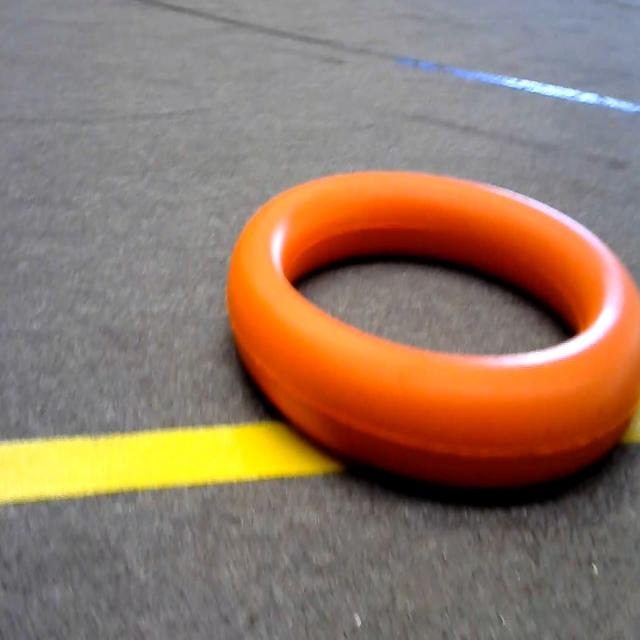note: (212, 155, 640, 508)
